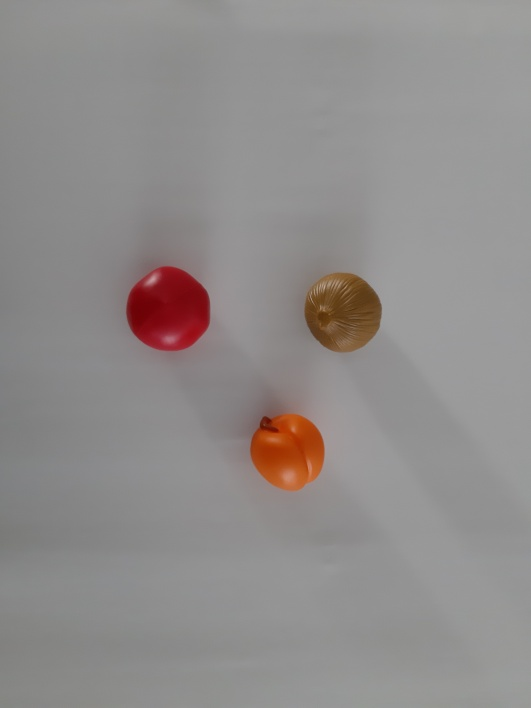apricot: (233, 400, 339, 505)
onion: (283, 258, 401, 382)
tomato: (103, 246, 233, 375)
